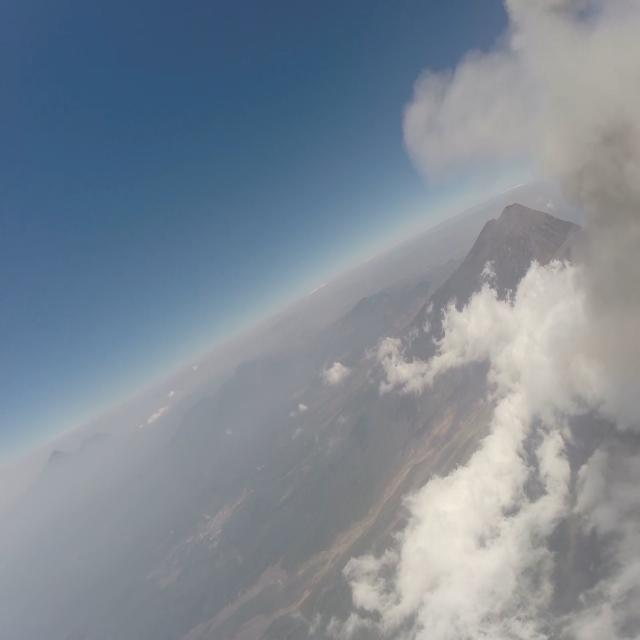Plume: (395, 0, 640, 442)
